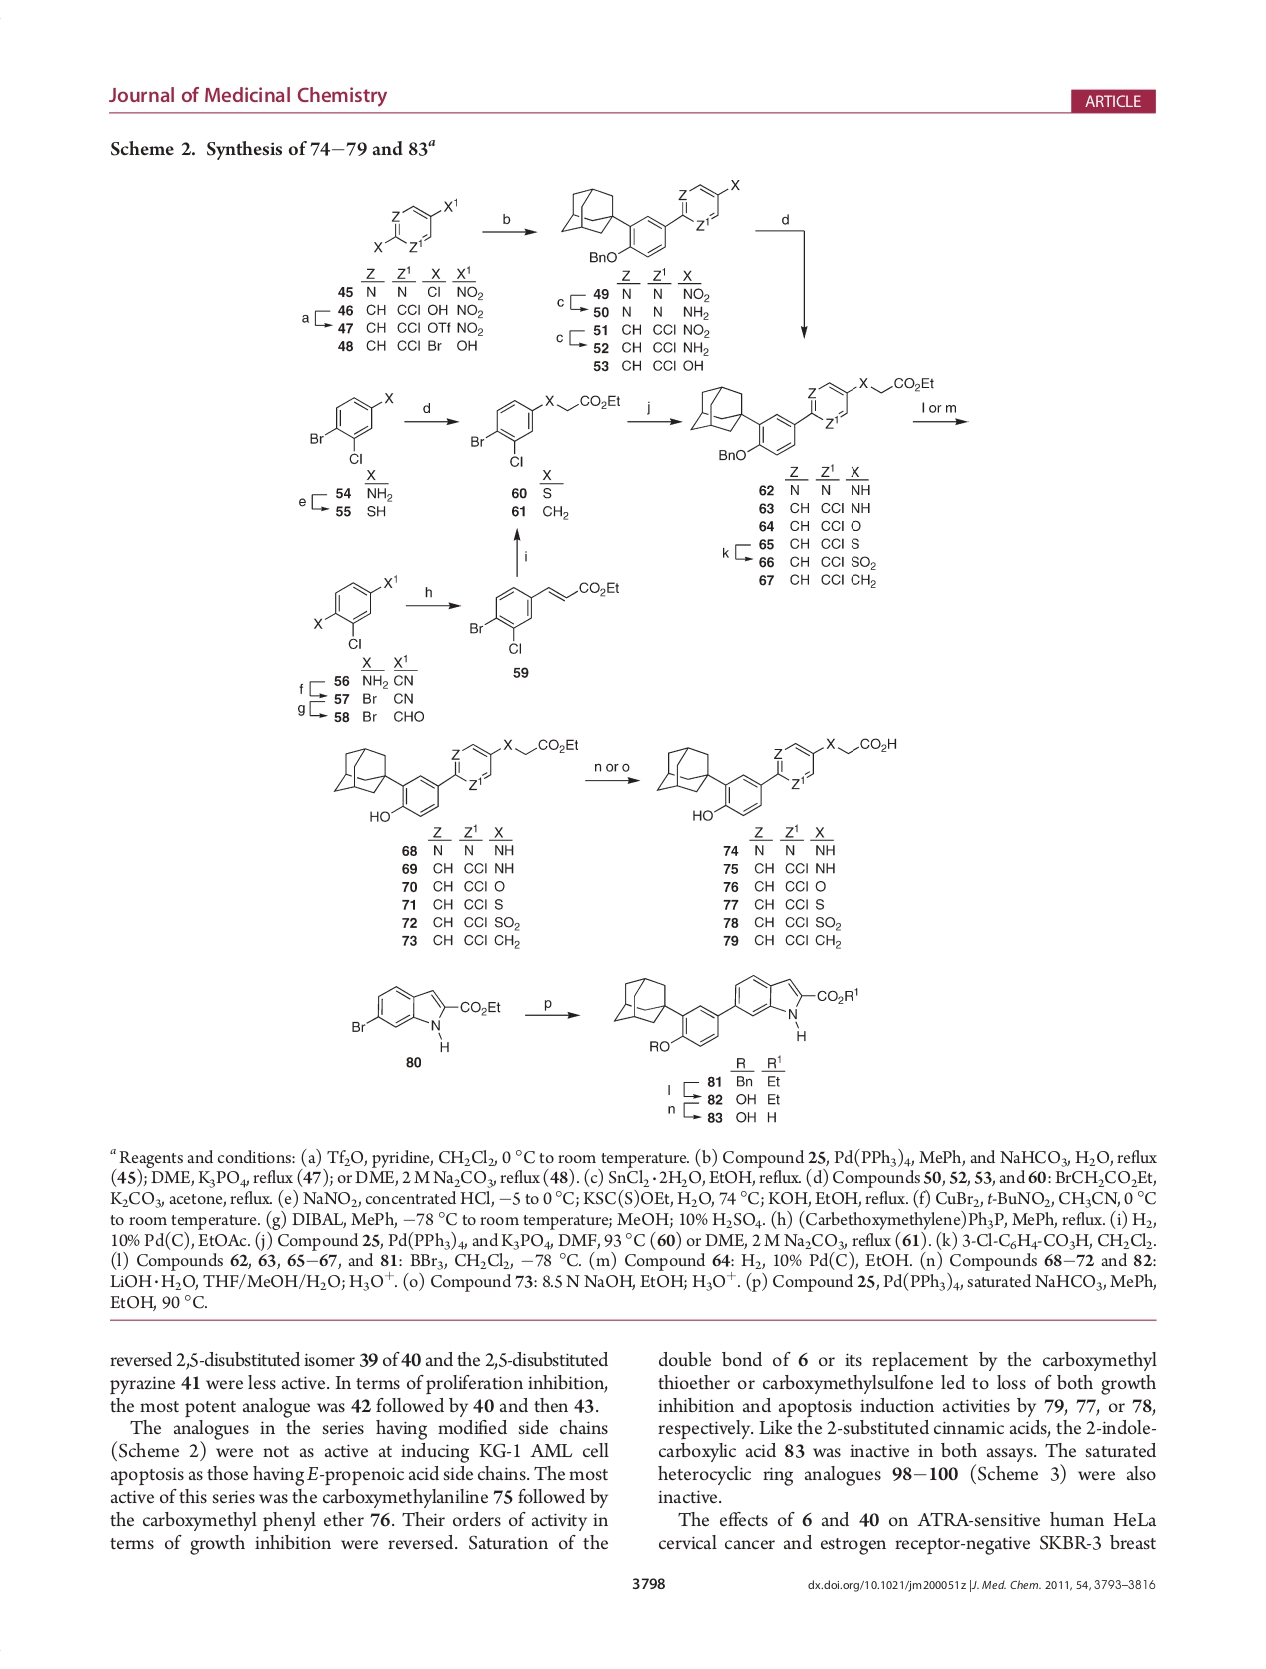exist_molecular: (330, 735, 582, 825), (653, 733, 899, 823), (688, 375, 938, 461), (610, 973, 860, 1055), (559, 177, 743, 267), (468, 391, 626, 469), (465, 580, 622, 657), (348, 981, 504, 1056), (306, 387, 398, 468), (310, 572, 402, 652), (368, 194, 461, 261)
